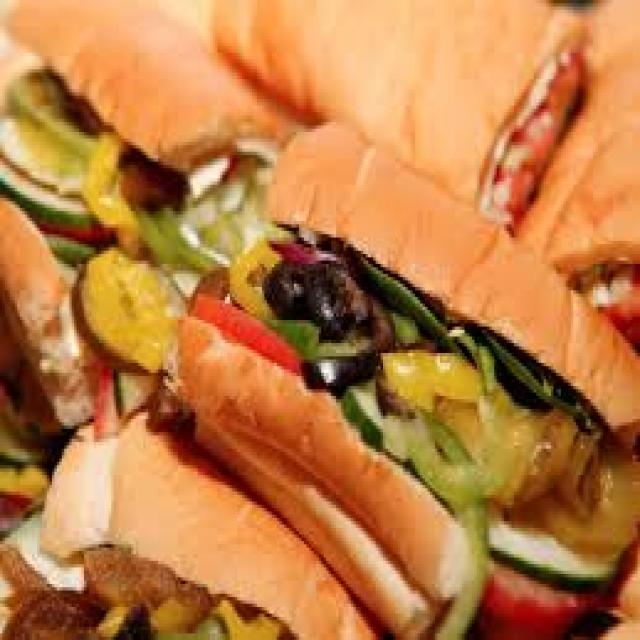organic waste: (0, 0, 638, 637), (173, 119, 638, 600), (210, 0, 637, 356), (0, 0, 286, 290), (108, 406, 376, 636), (0, 0, 309, 165), (509, 0, 637, 356), (0, 198, 96, 531), (388, 399, 484, 637), (486, 52, 580, 228), (72, 241, 185, 369), (378, 389, 507, 498), (529, 432, 637, 554), (474, 567, 628, 637), (40, 412, 109, 558), (480, 561, 610, 637), (479, 326, 586, 416), (484, 515, 623, 584), (183, 284, 291, 369), (351, 248, 450, 336), (5, 73, 99, 165), (502, 393, 583, 498), (173, 175, 259, 267), (376, 340, 486, 409), (76, 132, 138, 254), (131, 198, 225, 277), (0, 155, 94, 224), (79, 538, 173, 604), (302, 251, 366, 333), (0, 587, 104, 637), (225, 231, 284, 310), (586, 264, 638, 353), (338, 372, 393, 448), (104, 148, 178, 204), (302, 340, 378, 392), (208, 590, 284, 636), (17, 360, 62, 436), (0, 541, 57, 597), (270, 225, 344, 268), (153, 584, 208, 637), (32, 211, 119, 244), (262, 251, 306, 310), (450, 320, 487, 389), (106, 357, 151, 412), (0, 422, 49, 471), (608, 558, 637, 636), (86, 359, 118, 429), (0, 462, 47, 508), (94, 597, 146, 637), (49, 224, 99, 264), (148, 386, 190, 432), (62, 92, 104, 136), (390, 307, 425, 356), (0, 376, 22, 445), (366, 300, 393, 353), (235, 145, 269, 185), (183, 162, 227, 188), (2, 590, 34, 617), (190, 610, 222, 637), (0, 495, 27, 518)
